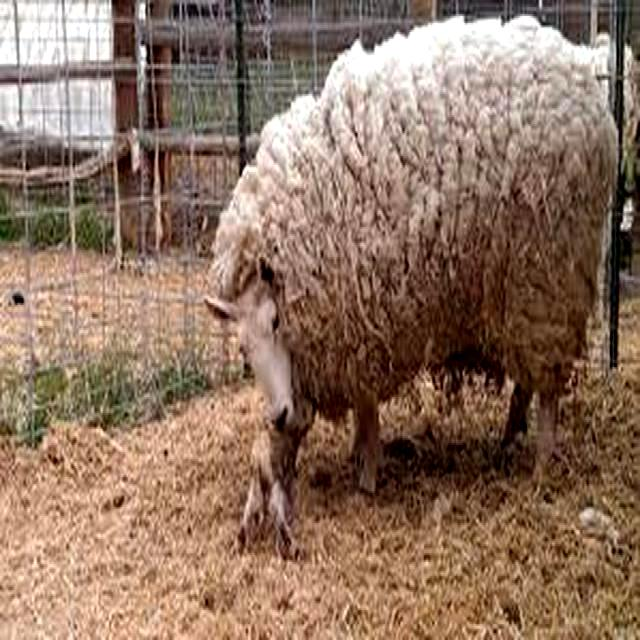sheep: (205, 16, 622, 495)
